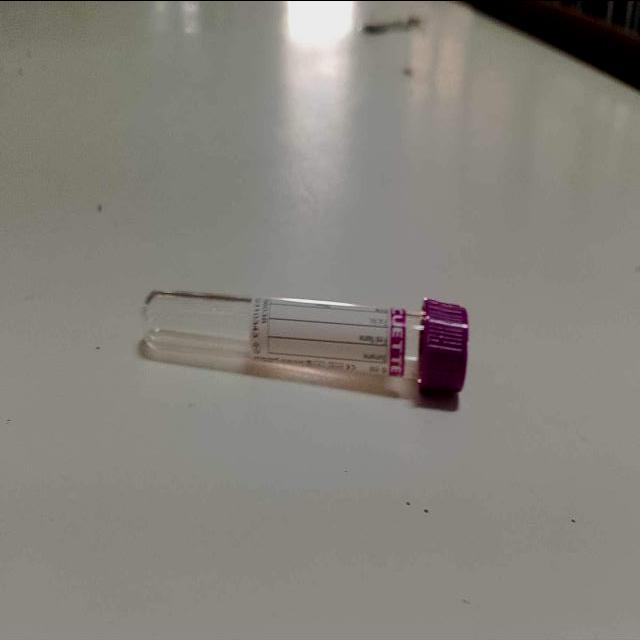General: (416, 296, 470, 395)
Sharps: (135, 289, 469, 404)
